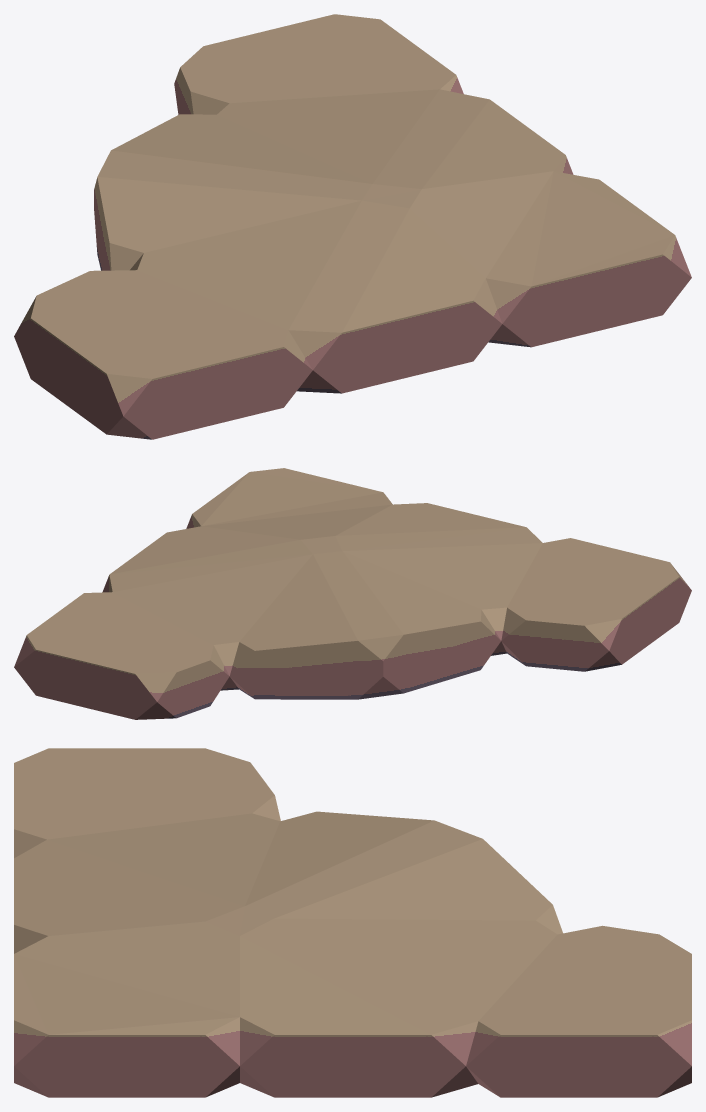
File: Tiles 3.002.fbx
3 renders of one model, top to bottom at view 1: azimuth 30°, elevation 25°; view 2: azimuth 150°, elevation 25°; view 3: azimuth 270°, elevation 25°, orthographic. The views are drawn at different scales.
Visible parts, largest first — view 1: Tiles 3.002; view 2: Tiles 3.002; view 3: Tiles 3.002.
Part boxes in pixels (bbox=[...]): Tiles 3.002: bbox=[14, 14, 691, 439]; Tiles 3.002: bbox=[14, 468, 691, 719]; Tiles 3.002: bbox=[14, 748, 691, 1097].
Bounding box in the file's own units: 495 × 65.79 × 495.
